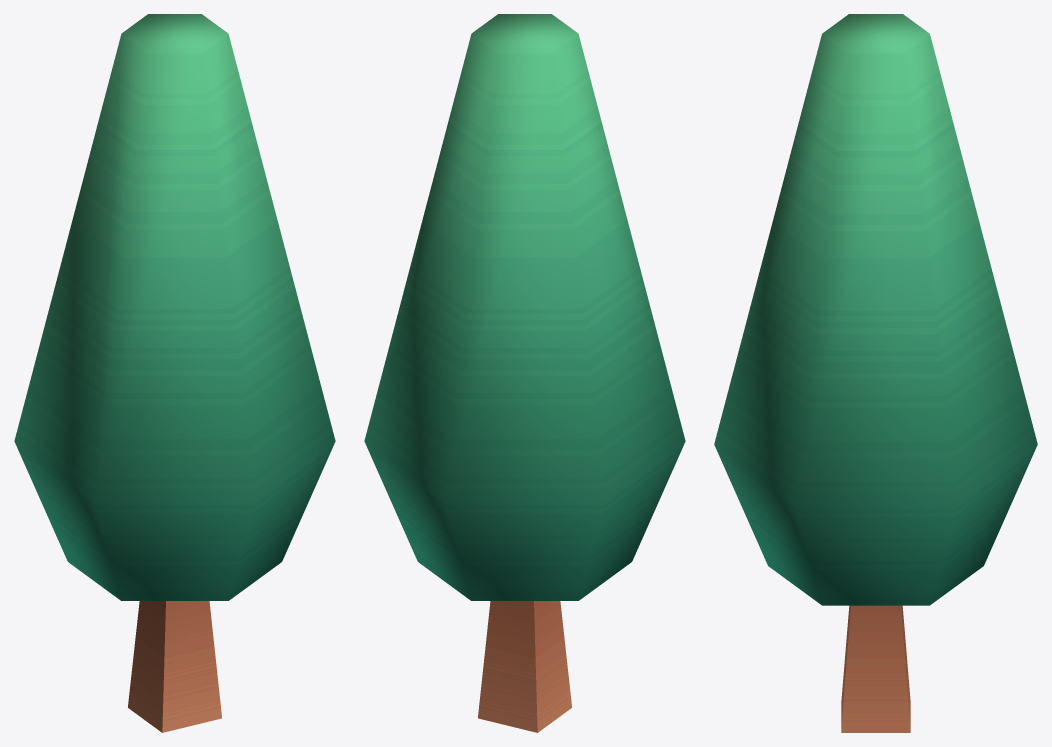
The model's file is tree-small.glb.
3 views of the same model, side by side, from view 1: azimuth 30°, elevation 25°; view 2: azimuth 150°, elevation 25°; view 3: azimuth 270°, elevation 25° (orthographic).
Parts seen in each view (by area): view 1: tree-small; view 2: tree-small; view 3: tree-small.
Part boxes in pixels (left/top/right/bottom): tree-small: left=14, top=14, right=335, bottom=732; tree-small: left=364, top=14, right=685, bottom=732; tree-small: left=714, top=14, right=1037, bottom=732.
Bounding box in the file's own units: 1.04 × 2.8 × 1.2.
Materials: 1 (1 with a texture image).
